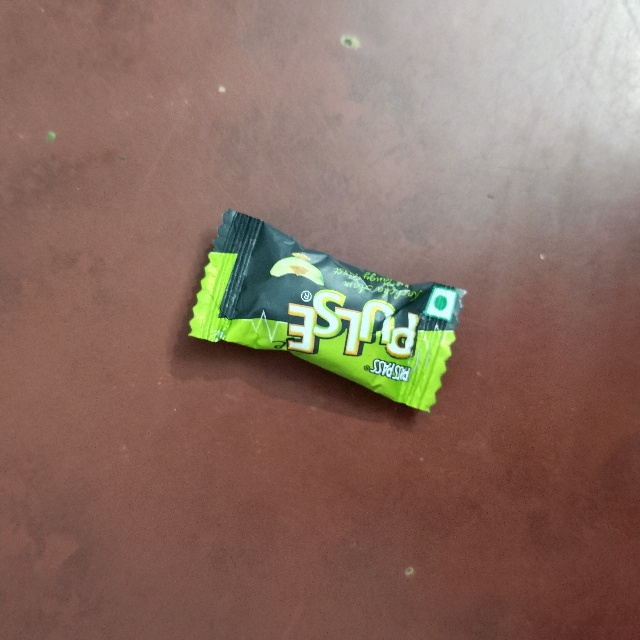Pulse: (216, 199, 495, 344)
